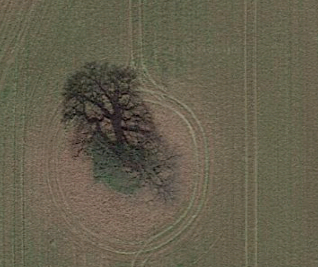tree: (69, 92, 172, 204)
